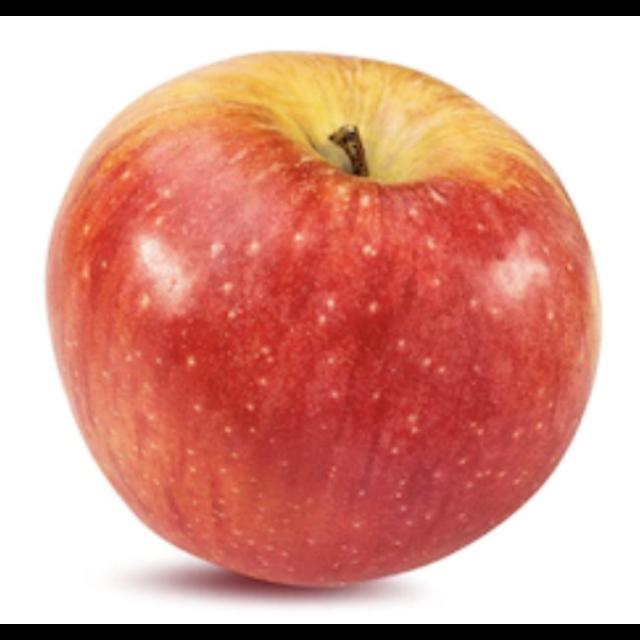Apel Segar: (43, 52, 604, 593)
